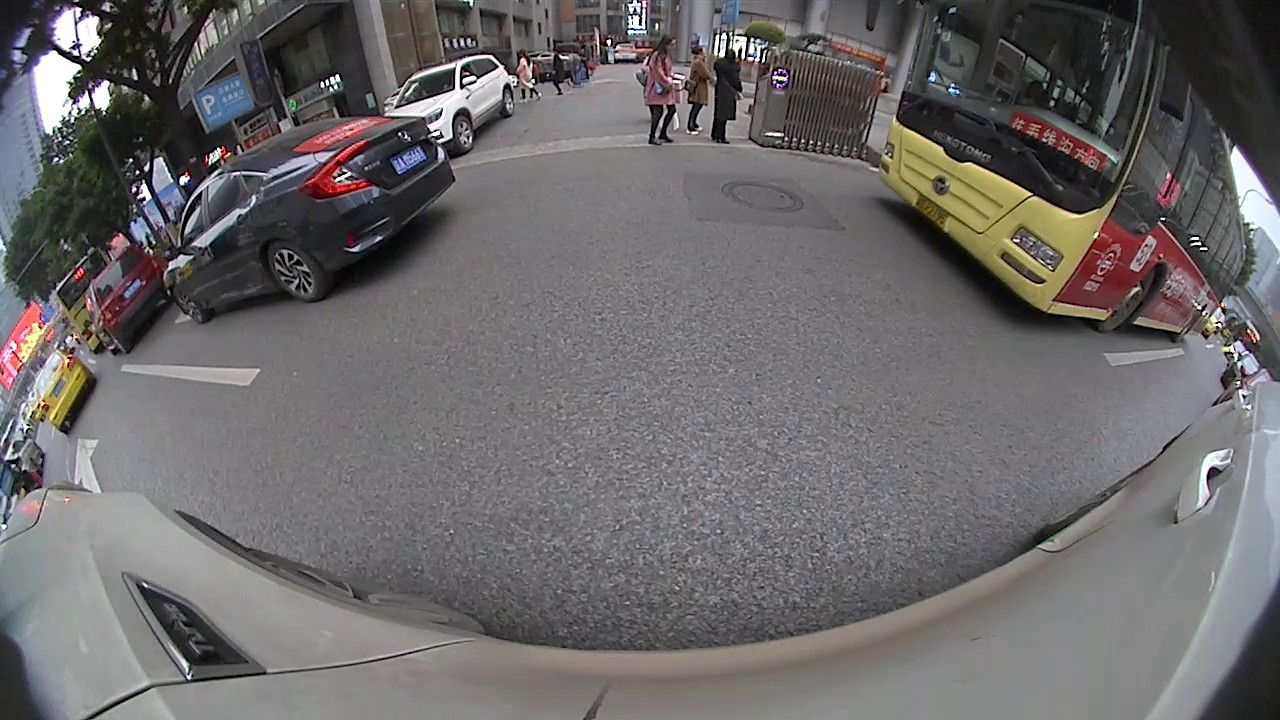bus: (863, 0, 1252, 347)
car: (165, 111, 455, 326), (389, 52, 518, 154), (81, 235, 168, 360), (29, 344, 97, 437)
front: (1089, 263, 1165, 335), (167, 288, 213, 326), (453, 116, 475, 151)
person: (645, 27, 679, 152), (684, 36, 713, 141), (713, 43, 741, 145)
rear: (261, 247, 337, 305), (100, 329, 129, 355), (500, 86, 518, 120)
